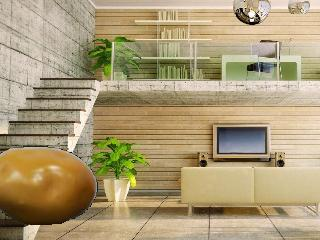potato: (0, 146, 97, 225)
